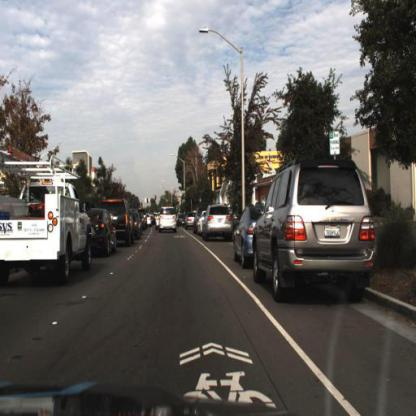car: (251, 146, 384, 314), (250, 152, 380, 305), (0, 138, 96, 301), (232, 200, 262, 273), (88, 199, 120, 267), (228, 204, 255, 275), (201, 196, 236, 248), (90, 201, 116, 260), (199, 199, 233, 243), (104, 194, 131, 248), (113, 195, 136, 254), (155, 200, 179, 232), (131, 201, 141, 243), (184, 206, 196, 236), (186, 206, 198, 234), (197, 204, 205, 240), (192, 206, 200, 236)
